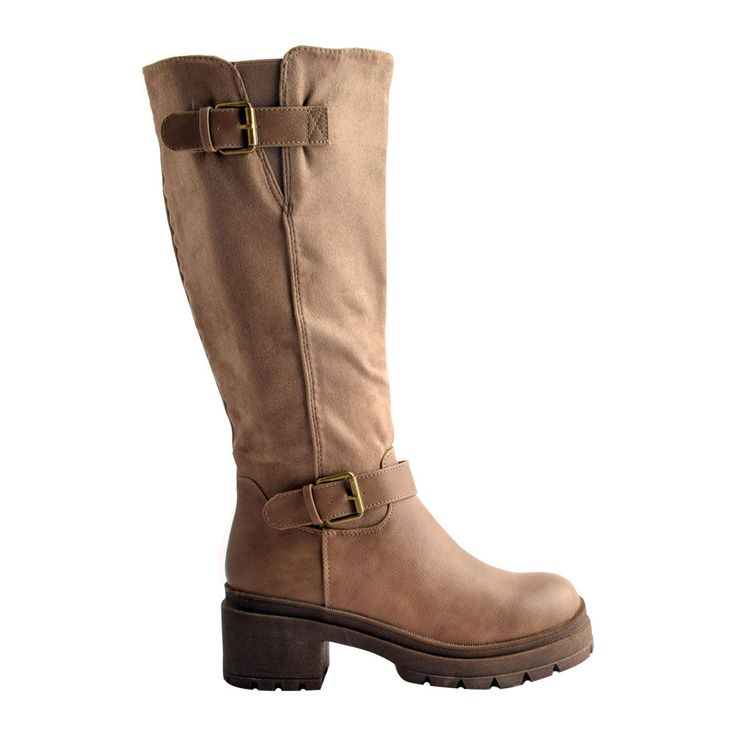gamuza: (141, 46, 431, 464)
